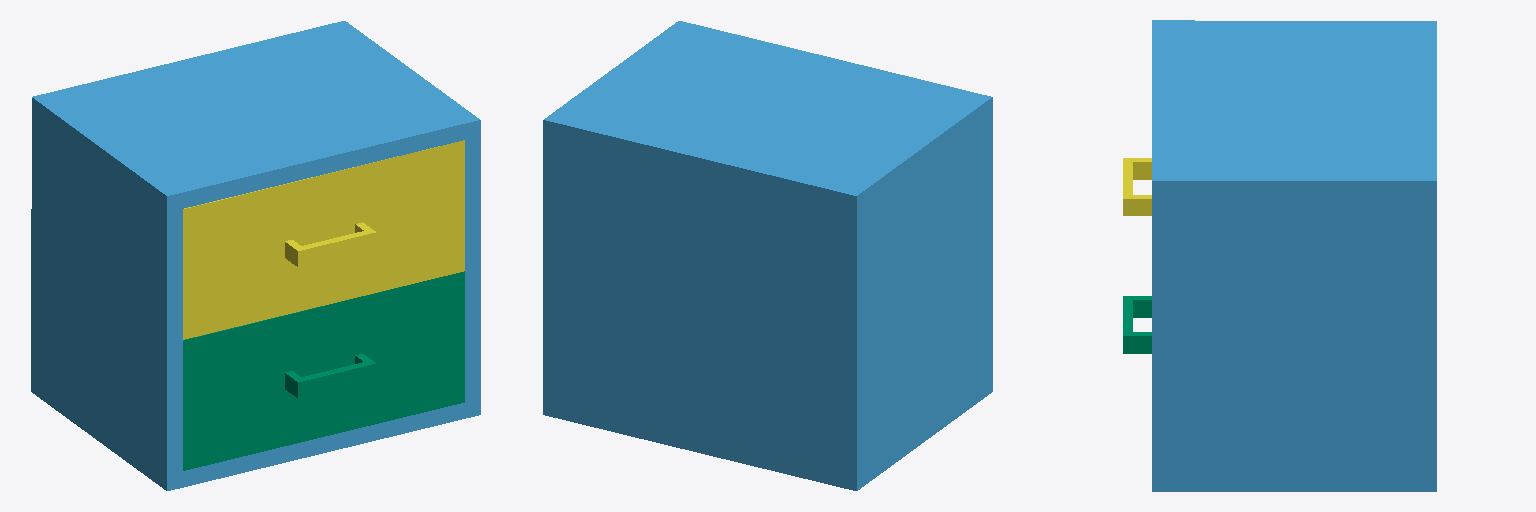
The robot description file, URDF, robot "drawer":
<robot name="drawer">
    <link name="world"/>

    <joint name="fixed" type="fixed">
        <parent link="world"/>
        <child link="base_link"/>
        <origin xyz="0 0 0"/>
    </joint>

    <link name="base_link">
        <inertial>
            <origin rpy="0 0 0" xyz="0 0 0"/>
            <mass value="1.0"/>
            <inertia ixx="1.0" ixy="0" ixz="0" iyy="1.0" iyz="0" izz="1.0"/>
        </inertial>
        <visual>
            <origin rpy="0 0 0" xyz="0 0 0"/>
            <geometry>
                <mesh filename="drawer/base_link.obj" scale="1 1 1" />
            </geometry>
        </visual>
        <collision>
            <origin rpy="0 0 0" xyz="0 0 0"/>
            <geometry>
                <mesh filename="drawer/base_link_vhacd.obj" scale="1 1 1" />
            </geometry>
        </collision>
    </link>

    <link name="drawer1">
        <inertial>
            <origin rpy="0 0 0" xyz="0 0 0"/>
            <mass value="2.0"/>
            <inertia ixx="0.01333" ixy="0" ixz="0" iyy="0.01333" iyz="0" izz="0.01333"/>
        </inertial>
        <visual>
            <origin rpy="0 0 0" xyz="0 0 0"/>
            <geometry>
                <mesh filename="drawer/drawer.obj" scale="1 1 1" />
            </geometry>
        </visual>
        <collision>
            <origin rpy="0 0 0" xyz="0 0 0"/>
            <geometry>
                <mesh filename="drawer/drawer_vhacd.obj" scale="1 1 1" />
            </geometry>
        </collision>
    </link>

    <joint name="joint_base_drawer1" type="prismatic">
        <parent link="base_link"/>
        <child link="drawer1"/>
        <dynamics damping="1.0" friction="0.0001"/>
        <limit lower="-0.25" upper="0"/>
        <origin xyz="0 -0.16 0.1"/>
        <axis xyz="0 1 0"/>
    </joint>

    <link name="drawer2">
        <inertial>
            <origin rpy="0 0 0" xyz="0 0 0"/>
            <mass value="2.0"/>
            <inertia ixx="0.01333" ixy="0" ixz="0" iyy="0.01333" iyz="0" izz="0.01333"/>
        </inertial>
        <visual>
            <origin rpy="0 0 0" xyz="0 0 0"/>
            <geometry>
                <mesh filename="drawer/drawer.obj" scale="1 1 1" />
            </geometry>
        </visual>
        <collision>
            <origin rpy="0 0 0" xyz="0 0 0"/>
            <geometry>
                <mesh filename="drawer/drawer_vhacd.obj" scale="1 1 1" />
            </geometry>
        </collision>
    </link>

    <joint name="joint_base_drawer2" type="prismatic">
        <parent link="base_link"/>
        <child link="drawer2"/>
        <dynamics damping="1.0" friction="0.0001"/>
        <limit lower="-0.25" upper="0"/>
        <origin xyz="0 -0.16 0.26"/>
        <axis xyz="0 1 0"/>
    </joint>
</robot>

--- Render facts (derived) ---
Views: 3 orthographic renders of the robot side by side, from view 1: azimuth 30°, elevation 25°; view 2: azimuth 150°, elevation 25°; view 3: azimuth 270°, elevation 25°.
Robot: drawer — 4 links, 3 joints (2 prismatic, 1 fixed); root link world; default pose: all joints at 0.
Visible links, largest first — view 1: base_link, drawer2, drawer1; view 2: base_link; view 3: base_link, drawer1, drawer2.
Link boxes in pixels (box(x1,y1,x2,y2)): base_link: box(31, 21, 480, 490); drawer2: box(183, 140, 464, 339); drawer1: box(183, 271, 464, 470); base_link: box(543, 21, 992, 490); base_link: box(1152, 20, 1436, 491); drawer1: box(1123, 296, 1151, 353); drawer2: box(1123, 158, 1151, 215).
Size in the robot's own frame: 0.4002 by 0.33 by 0.36 metres.
3 mesh visuals loaded from 2 distinct referenced files (2 OBJ).